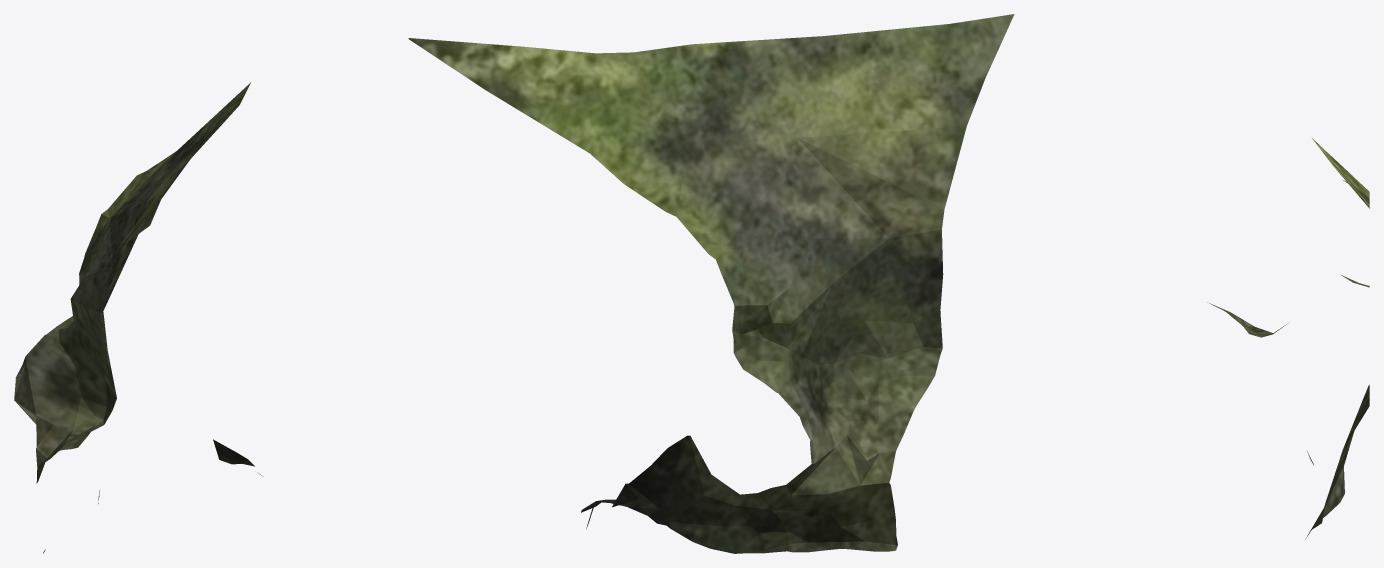
3 renders of one model, left to right at view 1: azimuth 30°, elevation 25°; view 2: azimuth 150°, elevation 25°; view 3: azimuth 270°, elevation 25°, orthographic. The views are drawn at different scales.
Bounding box in the file's own units: 5.9 × 5.9 × 4.19.
2 materials, 2 textured.
